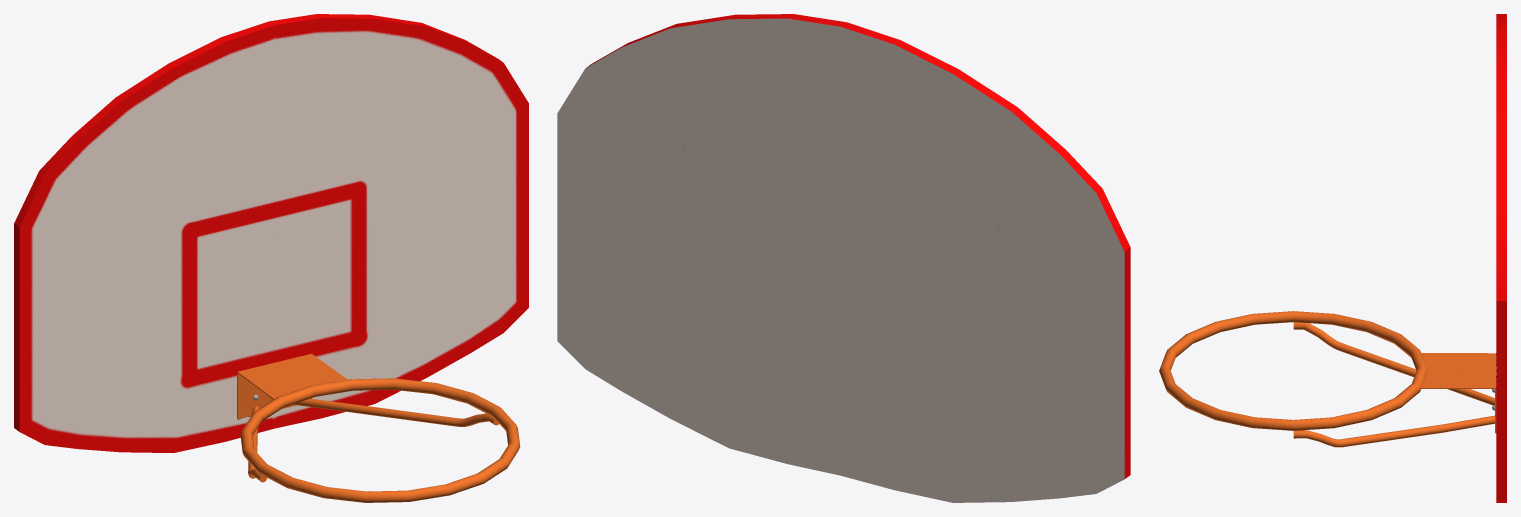
File: hoop.FBX
The picture shows the model from 3 angles, left to right: view 1: azimuth 30°, elevation 25°; view 2: azimuth 150°, elevation 25°; view 3: azimuth 270°, elevation 25°; orthographic projection. The views are drawn at different scales.
Parts seen in each view (by area): view 1: Torus001; view 2: Torus001; view 3: Torus001.
Part boxes in pixels (x1,y1,x2,y2): Torus001: (14, 14, 528, 502); Torus001: (557, 14, 1130, 502); Torus001: (1159, 14, 1506, 502).
Bounding box in the file's own units: 48.05 × 36.46 × 29.73.
